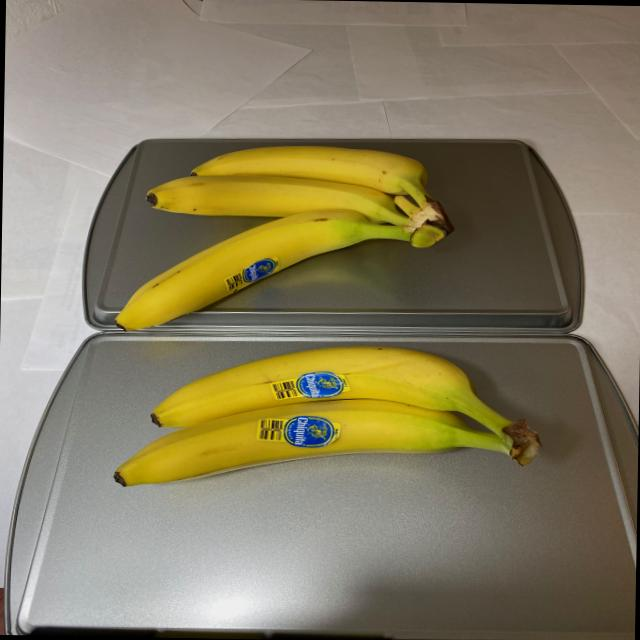banana: (112, 336, 546, 506), (103, 138, 458, 336)
